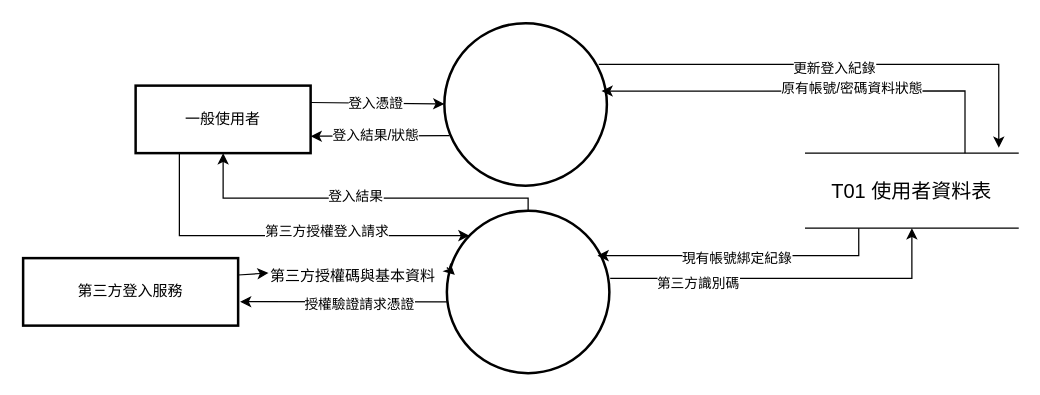
The diagram is 1040 pixels wide and 395 high, and some of its shapes have lost their labels. Each missing label, with the centre of its shape:
A01.2.1 Email登入: the point at 525,103
A01.2.2 Google 第三方登入: the point at 527,291
